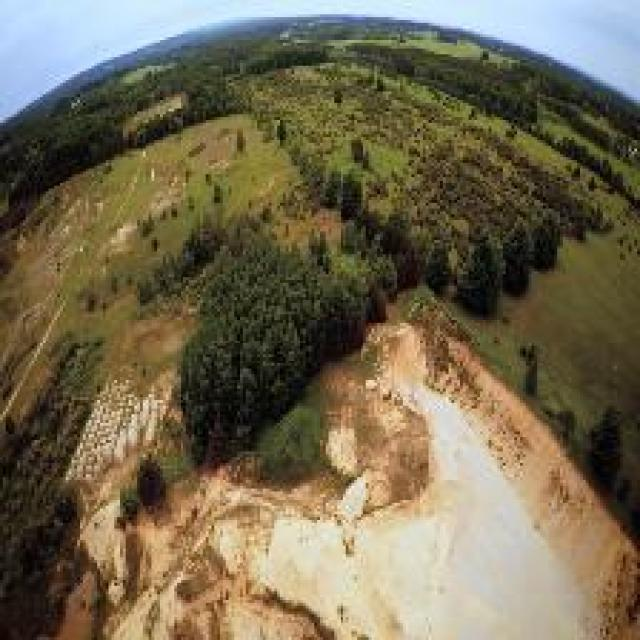other: (295, 346, 612, 624)
